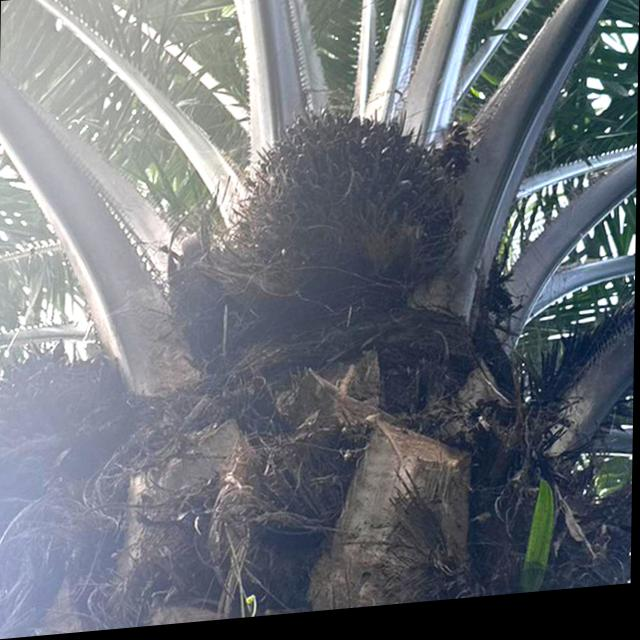unripe: (218, 93, 476, 330)
